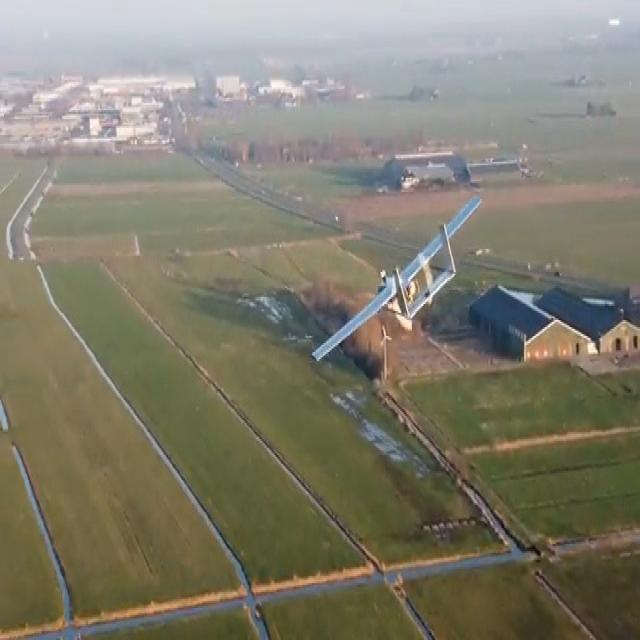iha: (313, 191, 489, 384)
